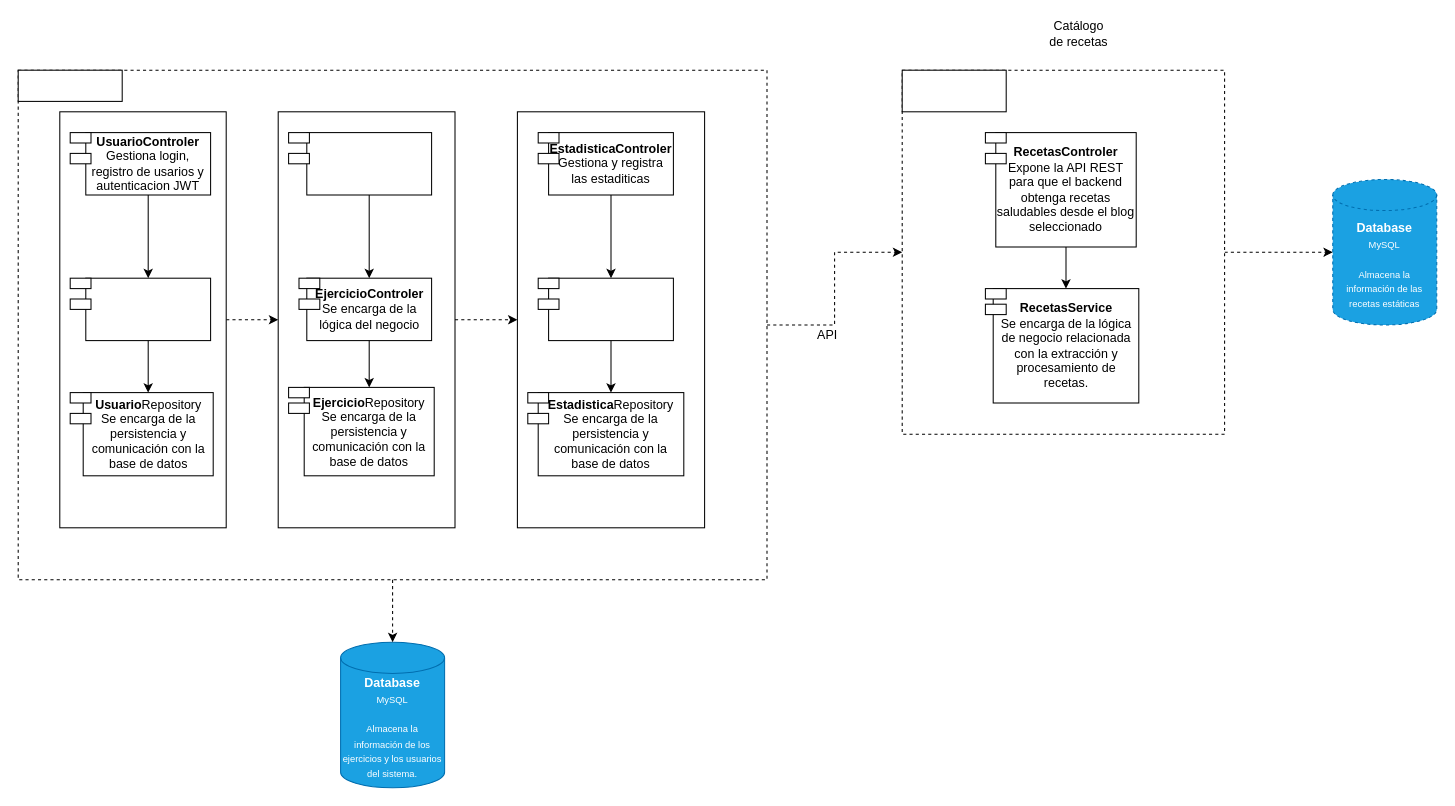
This 1455x806 diagram has some shape labels left out. The centre of each missing label's shape, as x and y in pixels:
"Backend" goes at (69,85).
"EjercicioControler Gestiona y registra los ejercicios" goes at (369,163).
"Estadistica Controler Se encarga de la lógica del negocio" goes at (610,309).
"Microservicio" goes at (953,90).
"Usuario Service Se encarga de la lógica de negocio" goes at (148,309).
